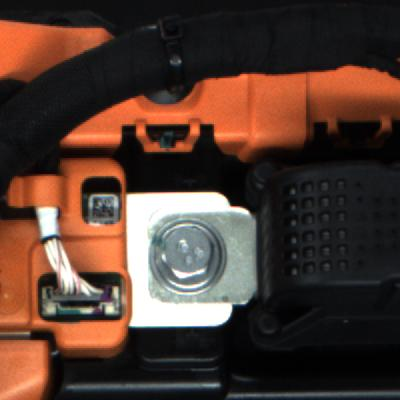nut_b: (147, 221, 229, 300)
